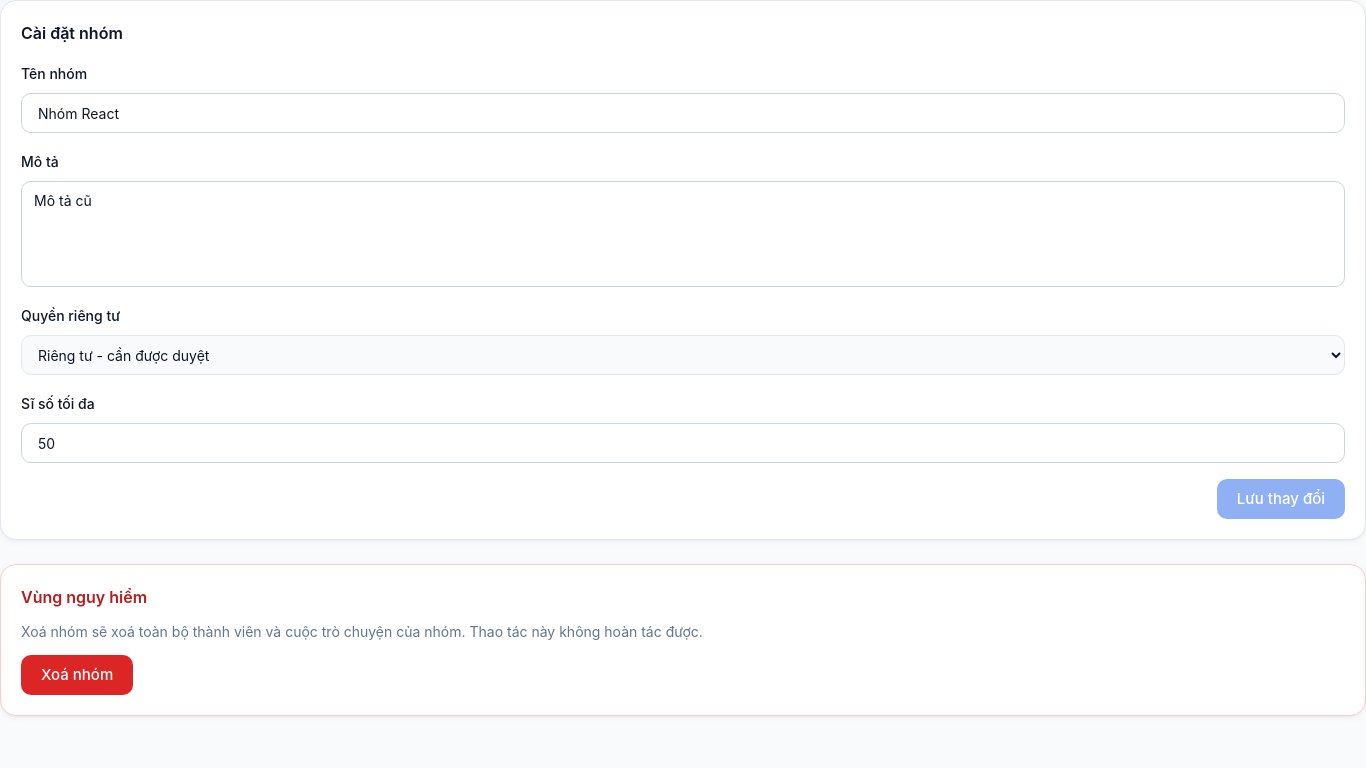
it: GroupSettingsForm › sĩ số thấp hơn số thành viên: báo lỗi và KHÔNG gọi API
The width and height of the screenshot is (1366, 768).
Replace the text in the number field labelled "Sĩ số tối đa" with "5": (683, 443) [21,423,1345,463]
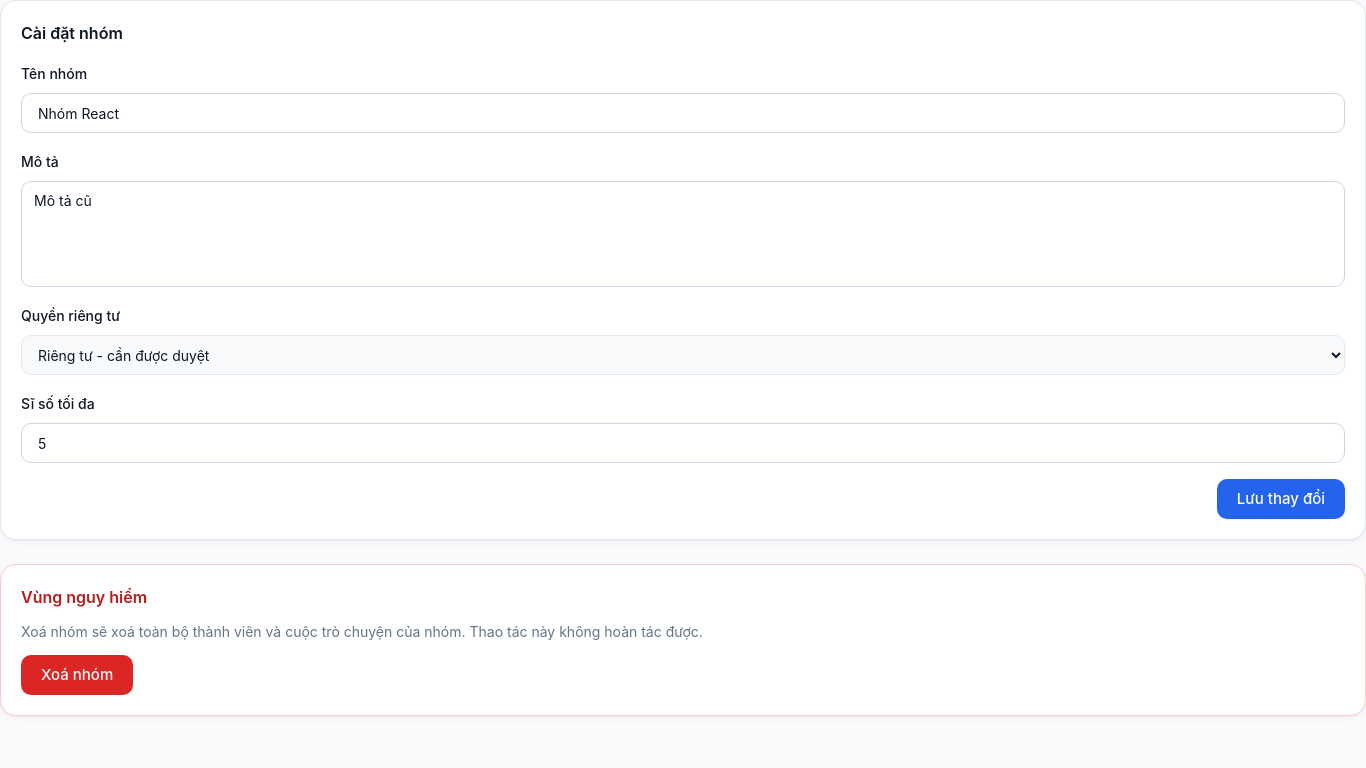
Click the button "Lưu thay đổi": (1281, 499) [1217,479,1345,519]
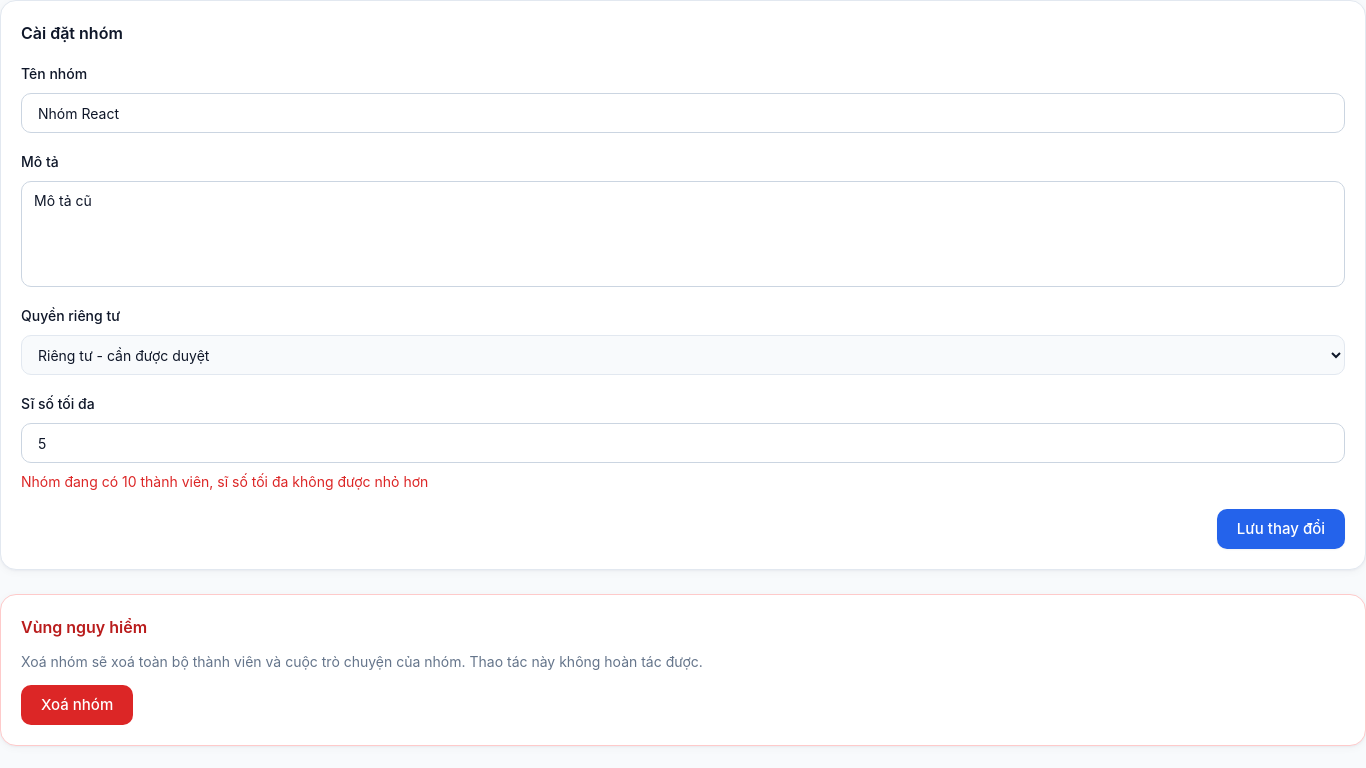
Now the text "Nhóm đang có 10 thành viên, sĩ số tối đa không được nhỏ hơn" is shown, box [21,473,428,490]
